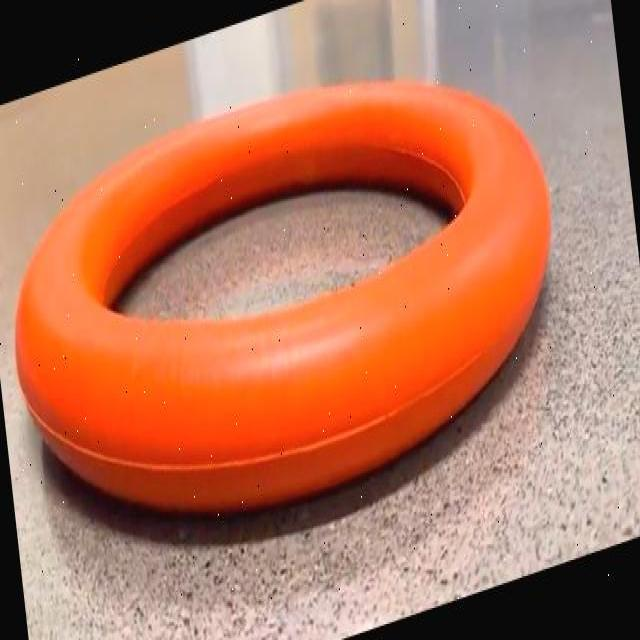note: (16, 81, 549, 511)
